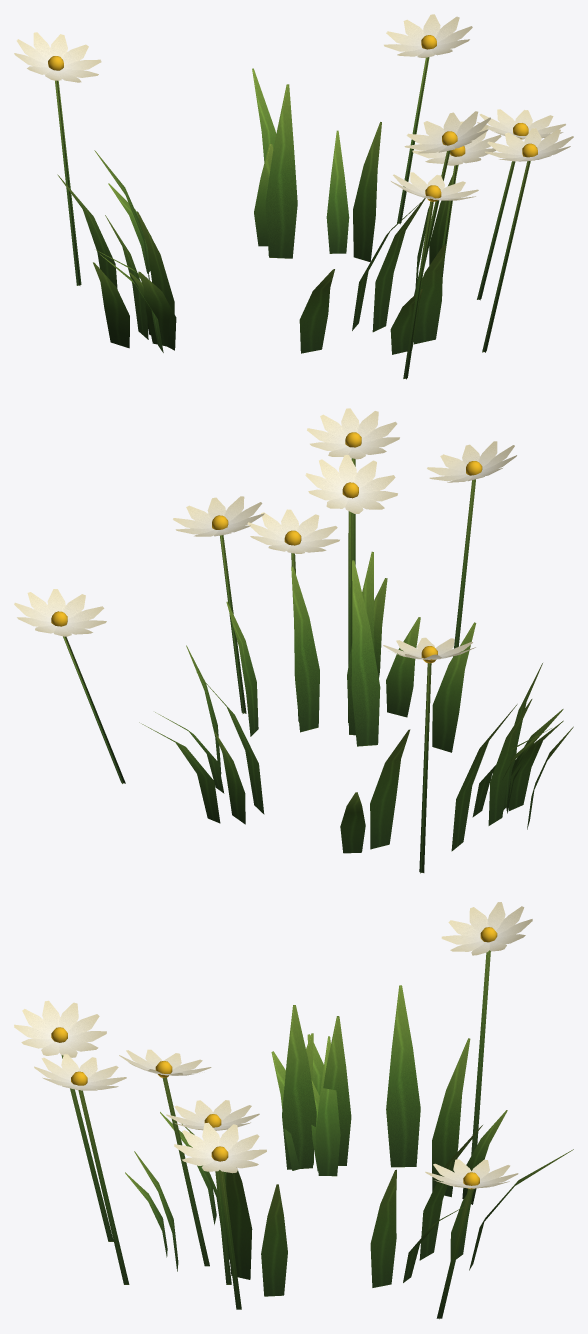
The model's file is flowers_daisy.glb.
3 views of the same model, one above another, from view 1: azimuth 30°, elevation 25°; view 2: azimuth 150°, elevation 25°; view 3: azimuth 270°, elevation 25° (orthographic). The views are drawn at different scales.
Visible parts, largest first — view 1: model; view 2: model; view 3: model.
Boxes of the visible parts, x1=… form: model: x1=14, y1=14, x2=573, y2=379; model: x1=14, y1=408, x2=573, y2=873; model: x1=14, y1=902, x2=573, y2=1319.
Bounding box in the file's own units: 0.9748 × 0.4876 × 1.02.
Materials: 4 (3 with a texture image).
